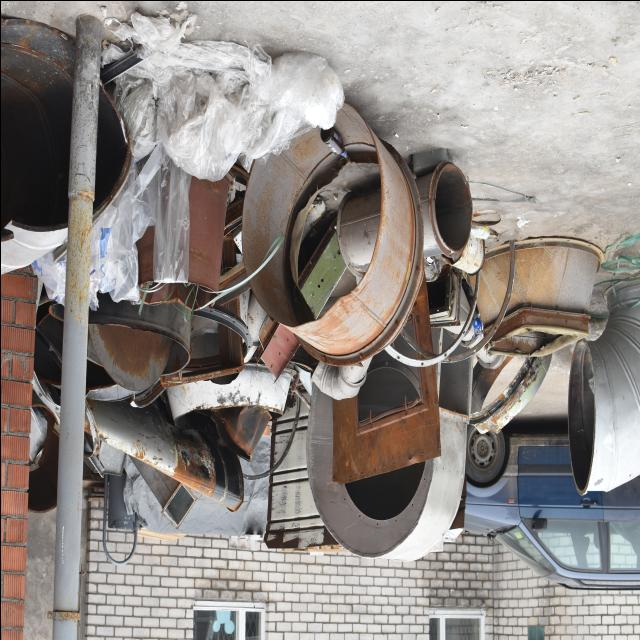entulho: (303, 318, 470, 562), (0, 14, 135, 257), (336, 282, 434, 480), (82, 238, 215, 376), (565, 279, 640, 493), (334, 162, 472, 276), (466, 242, 598, 360), (90, 396, 214, 512), (31, 310, 178, 404), (49, 308, 88, 640), (62, 18, 100, 354), (264, 387, 332, 552), (428, 251, 516, 363), (24, 394, 104, 512), (198, 221, 258, 358), (101, 458, 177, 564), (467, 348, 551, 433), (242, 310, 310, 398), (182, 370, 277, 432), (176, 169, 224, 287), (245, 384, 303, 478), (178, 310, 250, 382), (426, 162, 473, 264), (164, 414, 218, 498), (388, 296, 447, 366), (299, 228, 347, 314), (141, 274, 203, 330), (215, 404, 272, 462), (592, 242, 640, 308), (217, 168, 250, 262), (136, 360, 206, 404), (208, 433, 244, 511), (468, 180, 536, 204), (162, 480, 196, 528), (411, 145, 453, 173), (134, 527, 184, 541), (289, 382, 310, 409), (307, 544, 350, 552)
lixo domiciliar: (121, 5, 226, 279), (206, 41, 345, 183), (96, 146, 162, 298), (33, 231, 121, 307), (166, 70, 220, 180), (152, 148, 188, 280), (320, 126, 350, 162)
